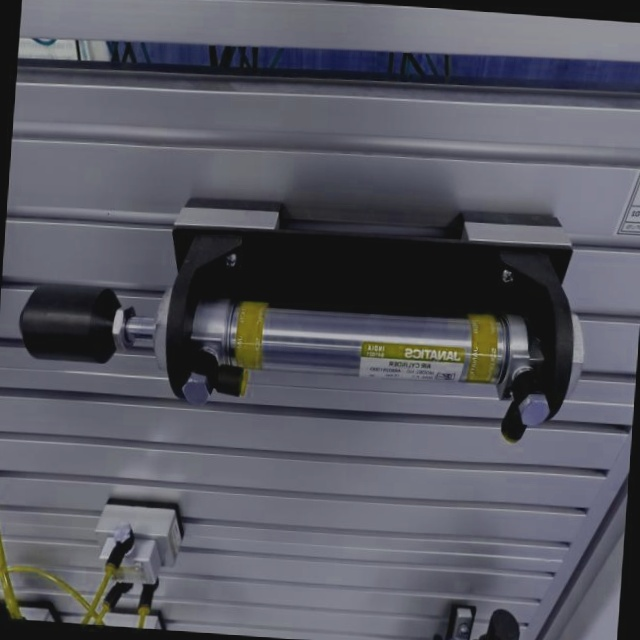double acting pneumatic cylinder: (11, 164, 596, 455)
